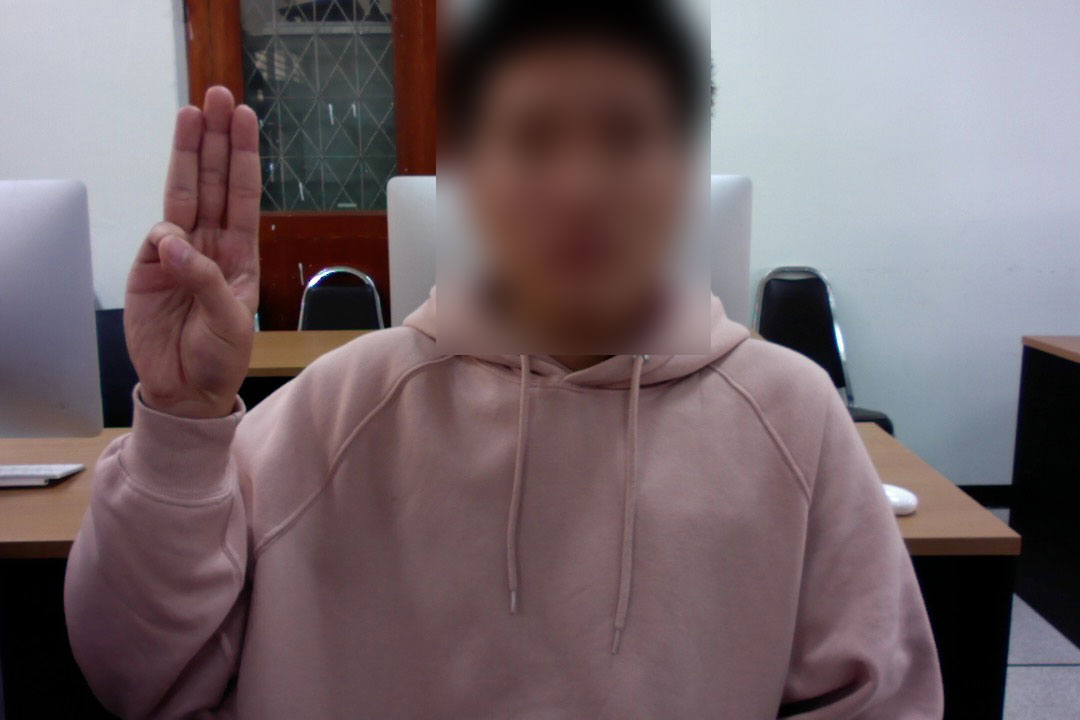wor: (114, 80, 263, 436)
